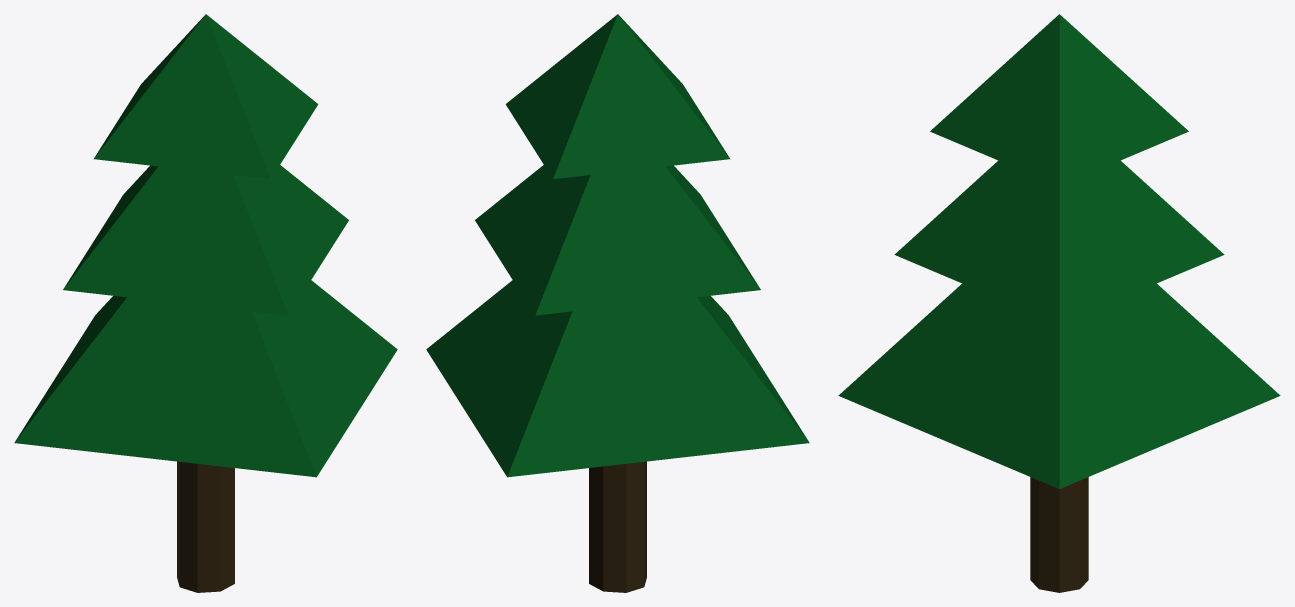
The model's file is pinetree.fbx.
The picture shows the model from 3 angles, left to right: view 1: azimuth 30°, elevation 25°; view 2: azimuth 150°, elevation 25°; view 3: azimuth 270°, elevation 25°; orthographic projection.
Visible parts, largest first — view 1: Leaves3, Leaves2, Leaves1, TreeTrunk; view 2: Leaves3, Leaves2, Leaves1, TreeTrunk; view 3: Leaves3, Leaves2, Leaves1, TreeTrunk.
Boxes of the visible parts, <box> form: Leaves3: <box>14,280,397,477</box>; Leaves2: <box>63,165,348,315</box>; Leaves1: <box>94,14,318,179</box>; TreeTrunk: <box>177,461,234,592</box>; Leaves3: <box>426,280,809,477</box>; Leaves2: <box>475,165,760,315</box>; Leaves1: <box>505,14,729,179</box>; TreeTrunk: <box>589,461,646,592</box>; Leaves3: <box>838,283,1280,488</box>; Leaves2: <box>894,160,1224,324</box>; Leaves1: <box>930,14,1188,186</box>; TreeTrunk: <box>1030,477,1088,592</box>.
Size of the model in its own units: 1.72 by 2.43 by 1.72.
